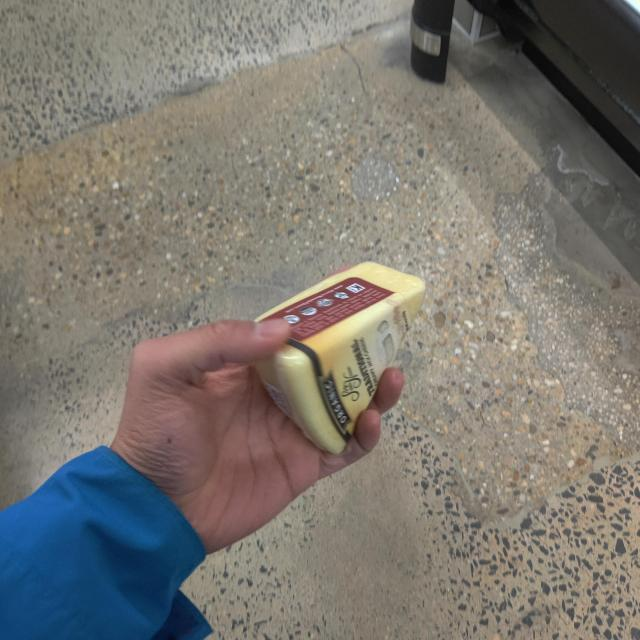Cheese: (232, 237, 456, 444)
